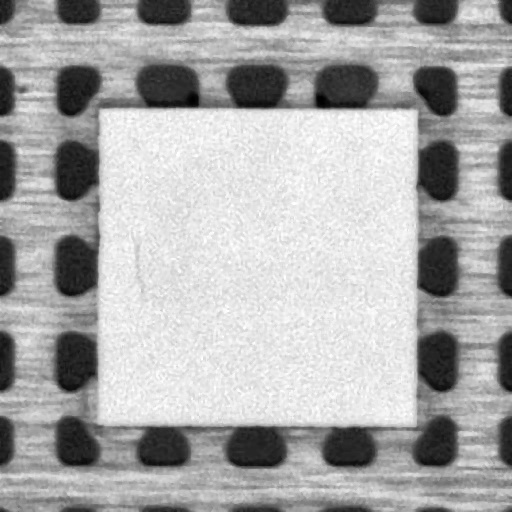DIE_CRACK: (129, 235, 149, 293)
